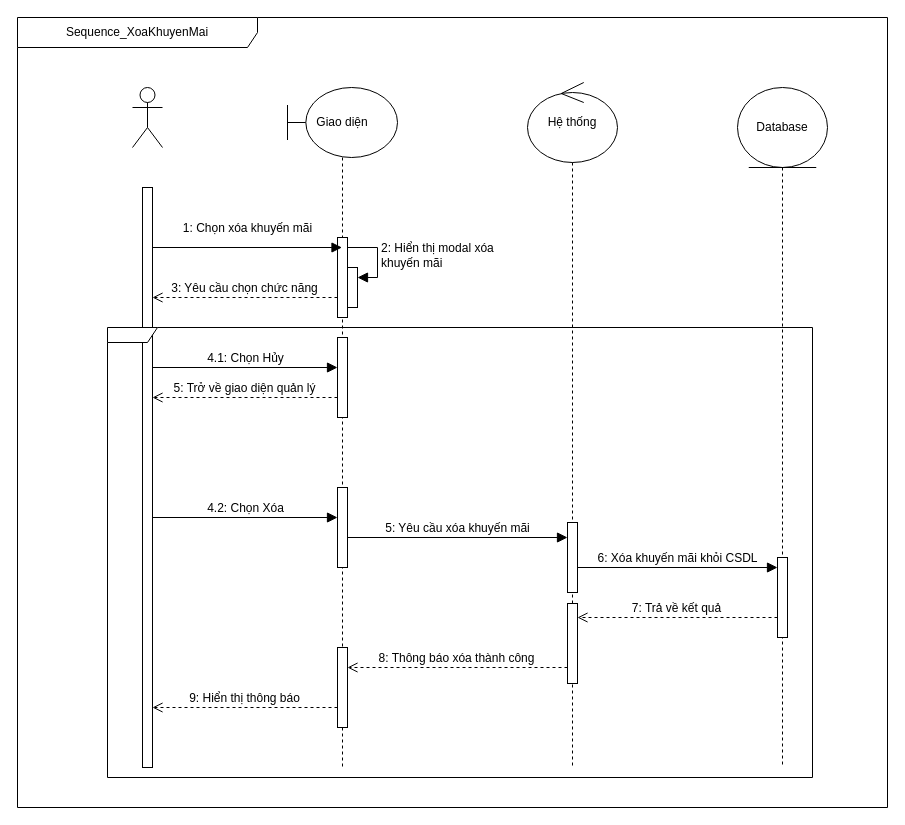
This 905x825 diagram has some shape labels left out. The centre of each missing label's shape, as x and y in pixels:
Alt: (x=459, y=552)
Người quản lý: (x=147, y=117)
